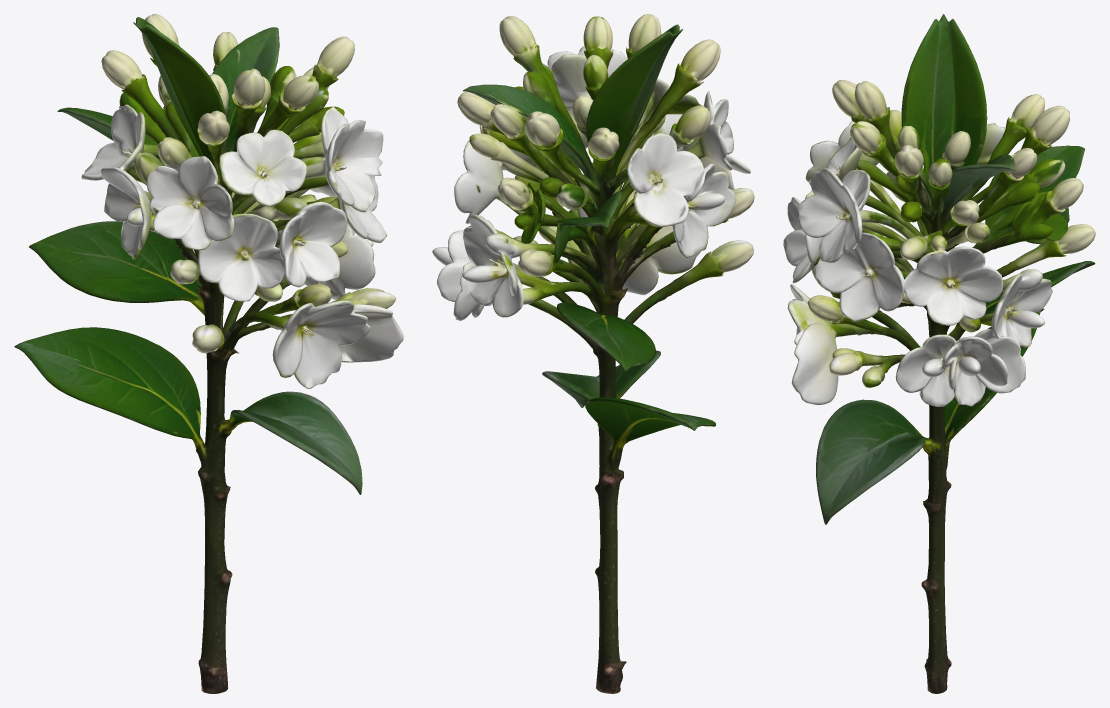
Rendered from molihua.glb.
3 views of the same model, side by side, from view 1: azimuth 30°, elevation 25°; view 2: azimuth 150°, elevation 25°; view 3: azimuth 270°, elevation 25° (orthographic). The views are drawn at different scales.
Parts seen in each view (by area): view 1: node_0; view 2: node_0; view 3: node_0.
Part boxes in pixels (box(x1,y1,x2,y2)): node_0: box(14, 14, 403, 693); node_0: box(432, 14, 754, 693); node_0: box(783, 14, 1095, 693).
Size of the model in its own units: 0.5337 by 1.16 by 0.5155.
Materials: 1 (1 with a texture image).
